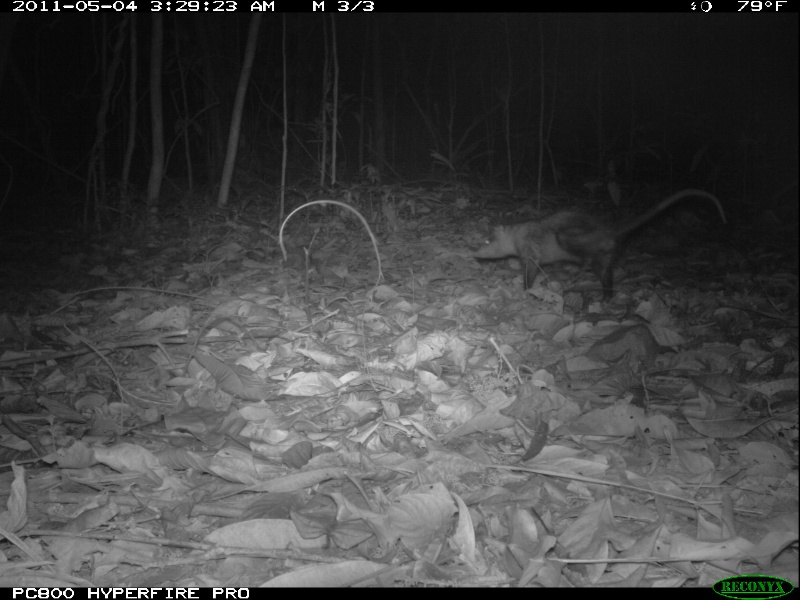opossum: (475, 176, 728, 311)
